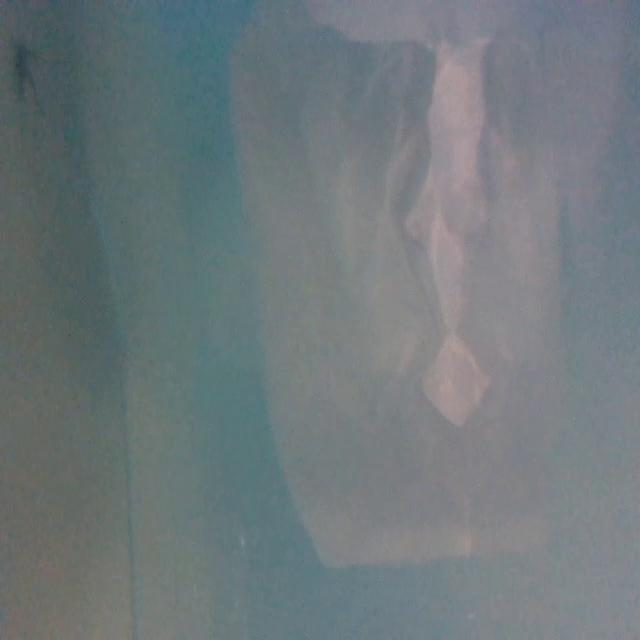plastic bags: (238, 0, 615, 575)
